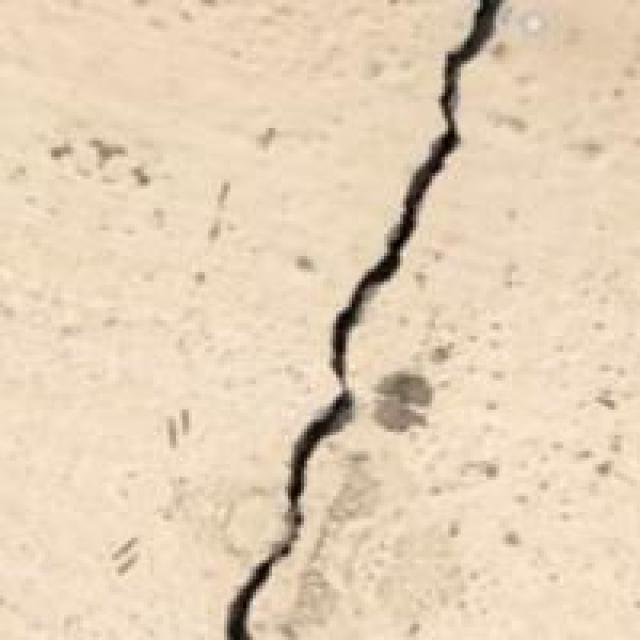Crack: (224, 0, 502, 637)
